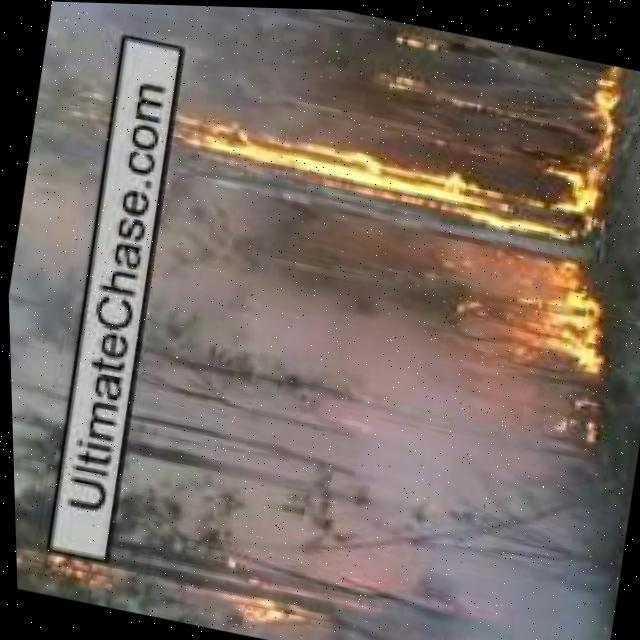fire: (487, 45, 640, 400), (167, 109, 525, 224), (18, 537, 136, 601), (215, 572, 312, 635), (374, 58, 440, 104), (377, 22, 447, 54)
